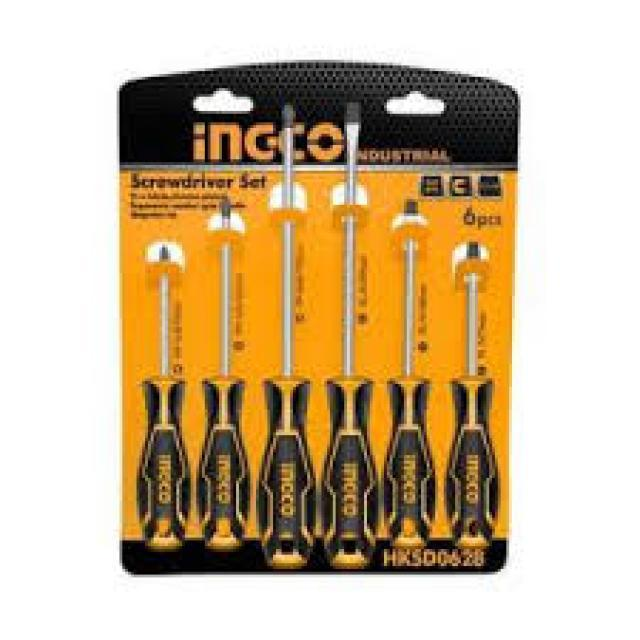screwdriver: (250, 95, 319, 570), (317, 97, 377, 569), (192, 192, 252, 559), (382, 193, 442, 558), (129, 240, 192, 559), (445, 226, 502, 548)
